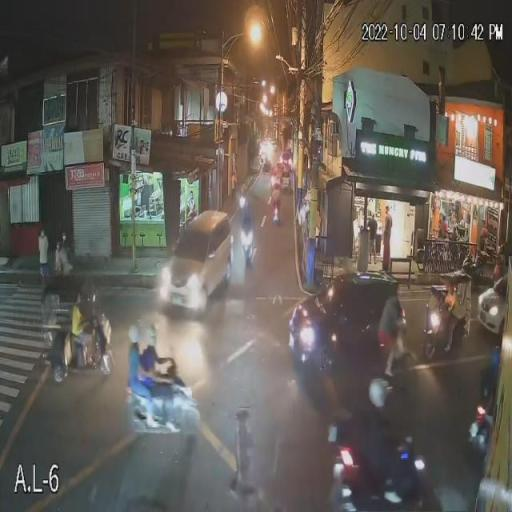helmet: (142, 318, 164, 354), (123, 315, 143, 346)
motorcycle: (122, 370, 215, 439)
rider: (138, 347, 192, 432), (120, 347, 160, 432)
